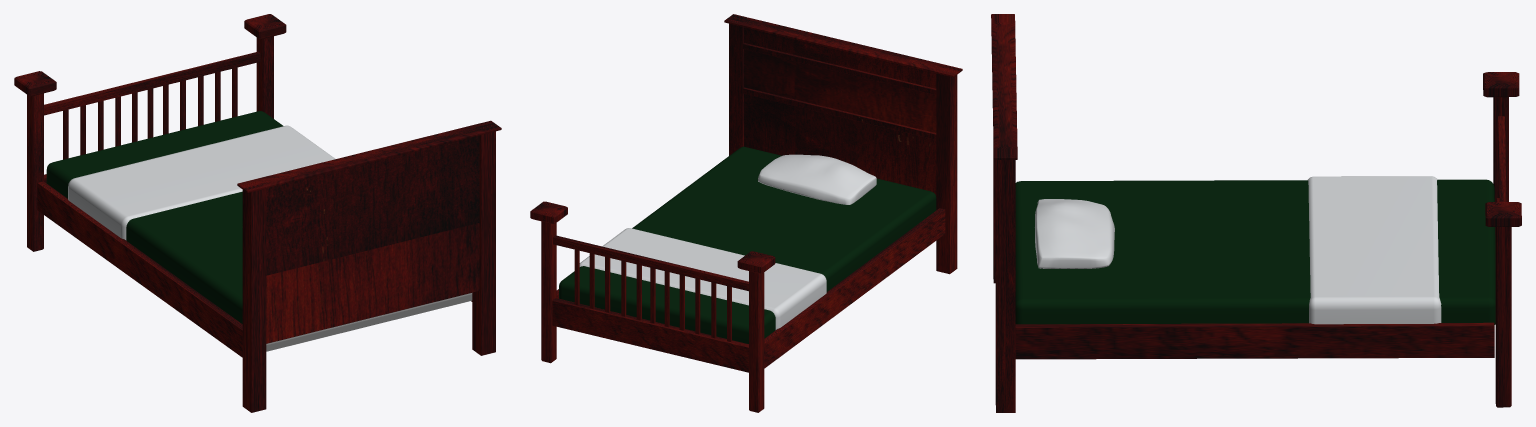
The model's file is bed.obj.
The picture shows the model from 3 angles, left to right: view 1: azimuth 30°, elevation 25°; view 2: azimuth 150°, elevation 25°; view 3: azimuth 270°, elevation 25°; orthographic projection. The views are drawn at different scales.
Visible parts, largest first — view 1: pCube1 group1, pCube25, pCube26, group1 pCube5, group1 pCube3, group1 pCube2, group1 pCube9, group1 pCube11, group1 pCube10, pCube24; view 2: pCube25, pCube1 group1, pCube26, group1 pCube8, group1 pCube5, pCube27, group1 pCube3, group1 pCube9, group1 pCube10, group1 pCube11, group1 pCube2; view 3: pCube25, pCube26, group1 pCube4, group1 pCube2, pCube27, group1 pCube10, pCube1 group1, group1 pCube9, group1 pCube11.
Boxes of the visible parts, bbox=[...] form: pCube1 group1: bbox=[237, 120, 501, 343]; pCube25: bbox=[46, 111, 283, 323]; pCube26: bbox=[68, 125, 335, 240]; group1 pCube5: bbox=[37, 181, 242, 357]; group1 pCube3: bbox=[242, 188, 266, 412]; group1 pCube2: bbox=[472, 131, 495, 355]; group1 pCube9: bbox=[14, 71, 56, 251]; group1 pCube11: bbox=[44, 51, 260, 115]; group1 pCube10: bbox=[244, 14, 286, 118]; pCube24: bbox=[266, 293, 472, 351]; pCube25: bbox=[559, 146, 936, 343]; pCube1 group1: bbox=[724, 14, 962, 195]; pCube26: bbox=[579, 228, 826, 329]; group1 pCube8: bbox=[552, 298, 748, 372]; group1 pCube5: bbox=[764, 208, 945, 368]; pCube27: bbox=[758, 154, 876, 204]; group1 pCube3: bbox=[936, 73, 957, 274]; group1 pCube9: bbox=[737, 251, 775, 412]; group1 pCube10: bbox=[530, 201, 567, 363]; group1 pCube11: bbox=[553, 235, 748, 291]; group1 pCube2: bbox=[729, 23, 743, 155]; pCube25: bbox=[1015, 179, 1495, 325]; pCube26: bbox=[1308, 176, 1441, 324]; group1 pCube4: bbox=[1015, 322, 1494, 359]; group1 pCube2: bbox=[995, 160, 1015, 412]; pCube27: bbox=[1035, 199, 1114, 268]; group1 pCube10: bbox=[1485, 202, 1521, 407]; pCube1 group1: bbox=[991, 14, 1017, 159]; group1 pCube9: bbox=[1483, 72, 1519, 234]; group1 pCube11: bbox=[1498, 116, 1506, 201].
Bounding box in the file's own units: 24.1 × 19.81 × 36.93.
Materials: 4 (1 with a texture image).
